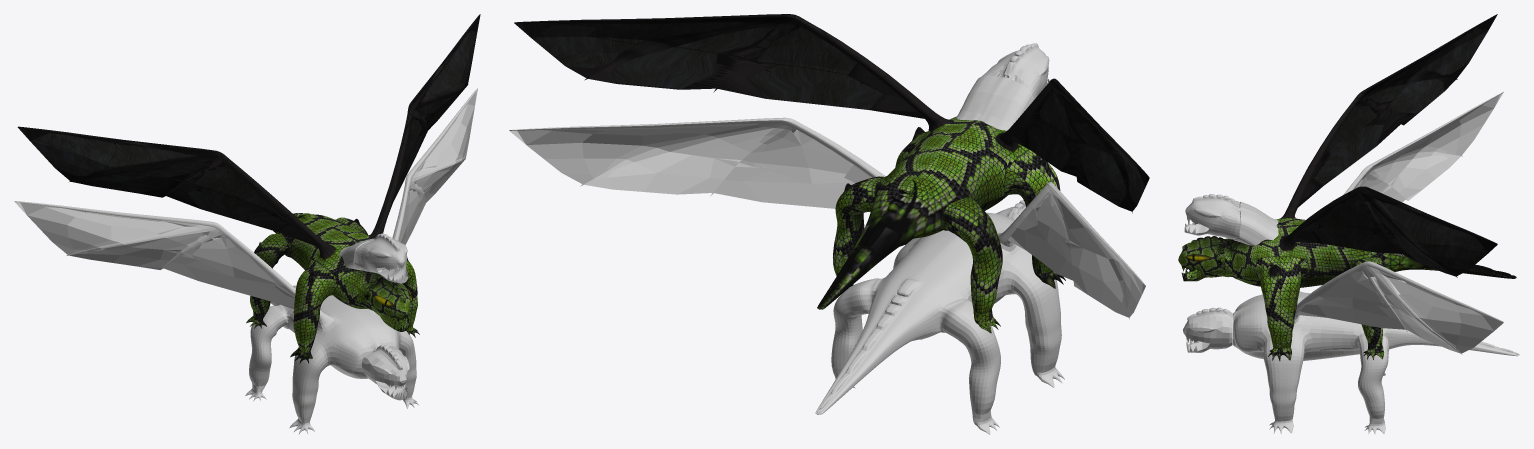
The model's file is monster_000002.obj.
3 renders of one model, left to right at view 1: azimuth 30°, elevation 25°; view 2: azimuth 150°, elevation 25°; view 3: azimuth 270°, elevation 25°, orthographic. The views are drawn at different scales.
Visible parts, largest first — view 1: body_Cube, bodyCopy_Cube.003, secondHead_Cube.002, headcopy_Cube.006; view 2: body_Cube, bodyCopy_Cube.003, secondHead_Cube.002; view 3: body_Cube, bodyCopy_Cube.003, secondHead_Cube.002, headcopy_Cube.006.
Part boxes in pixels (left/top/right/bottom): body_Cube: left=17, top=14, right=480, bottom=363; bodyCopy_Cube.003: left=14, top=88, right=477, bottom=434; secondHead_Cube.002: left=339, top=233, right=408, bottom=283; headcopy_Cube.006: left=361, top=344, right=409, bottom=400; body_Cube: left=514, top=14, right=1149, bottom=333; bodyCopy_Cube.003: left=509, top=117, right=1145, bottom=434; secondHead_Cube.002: left=955, top=43, right=1049, bottom=130; body_Cube: left=1178, top=14, right=1516, bottom=361; bodyCopy_Cube.003: left=1232, top=92, right=1519, bottom=434; secondHead_Cube.002: left=1184, top=194, right=1278, bottom=245; headcopy_Cube.006: left=1183, top=307, right=1232, bottom=352.
Size of the model in its own units: 8.89 by 4.96 by 5.56.
